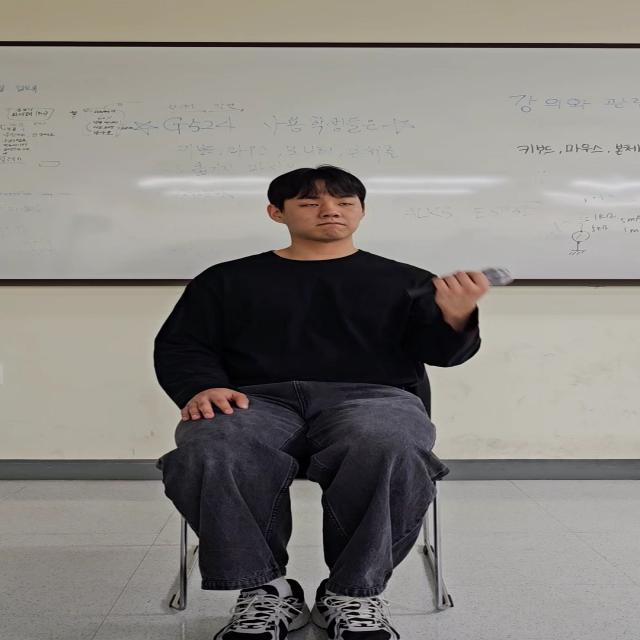curl: (412, 264, 508, 385)
